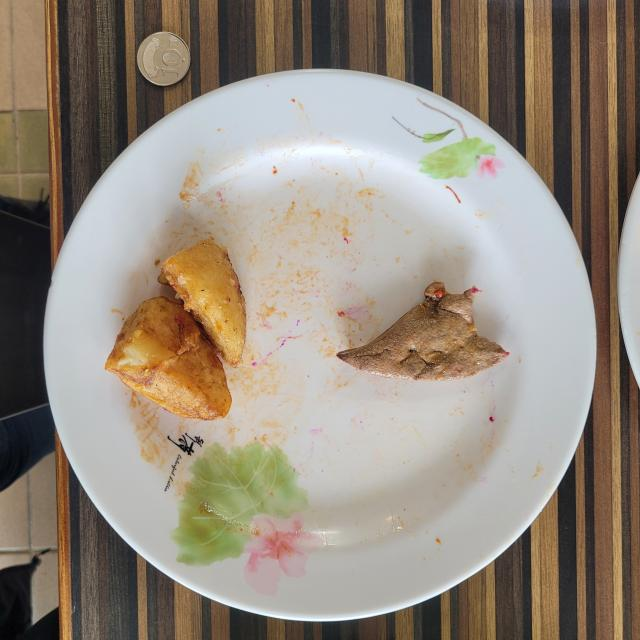coin: (136, 31, 190, 86)
fried potato: (105, 239, 246, 420)
pig liver: (338, 281, 509, 381)
